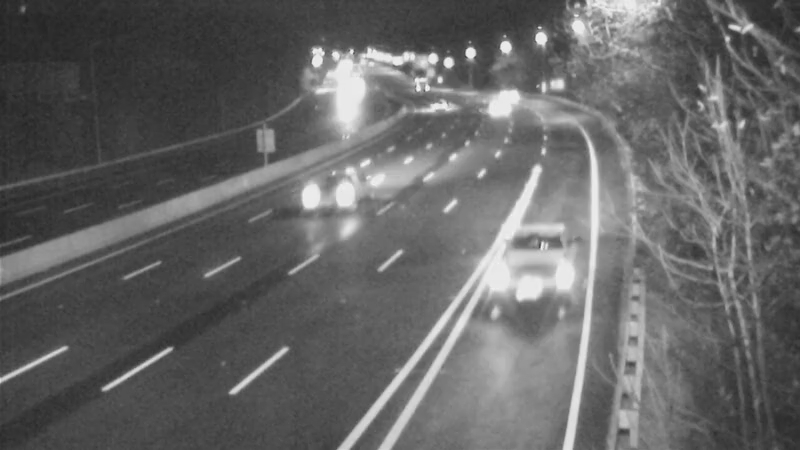vehicle: (480, 228, 560, 308), (292, 141, 372, 221), (398, 61, 448, 111), (491, 72, 541, 122), (462, 79, 512, 129), (323, 66, 373, 116)
